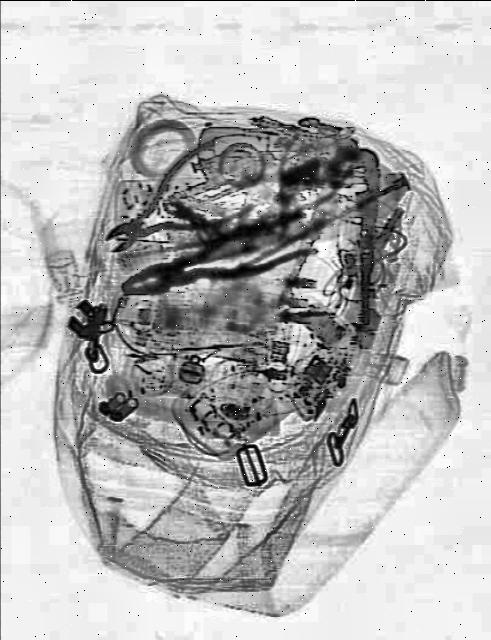Pliers: (92, 132, 258, 284), (116, 204, 322, 320)
